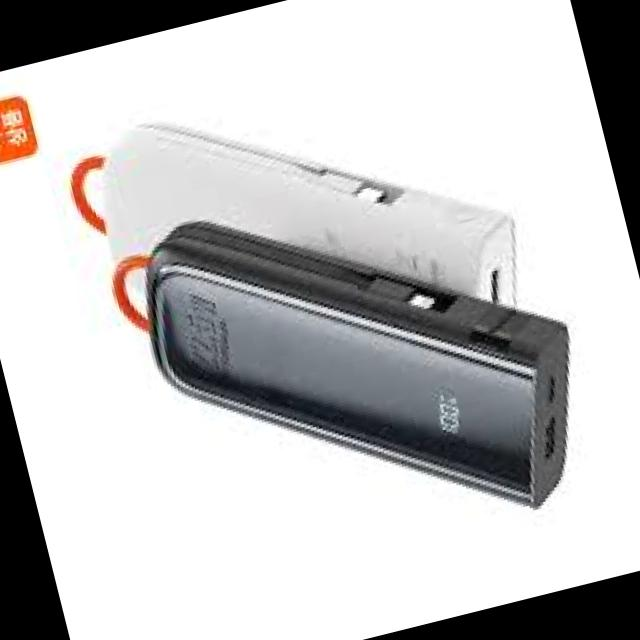power_bank: (124, 136, 616, 601), (83, 42, 535, 394)
